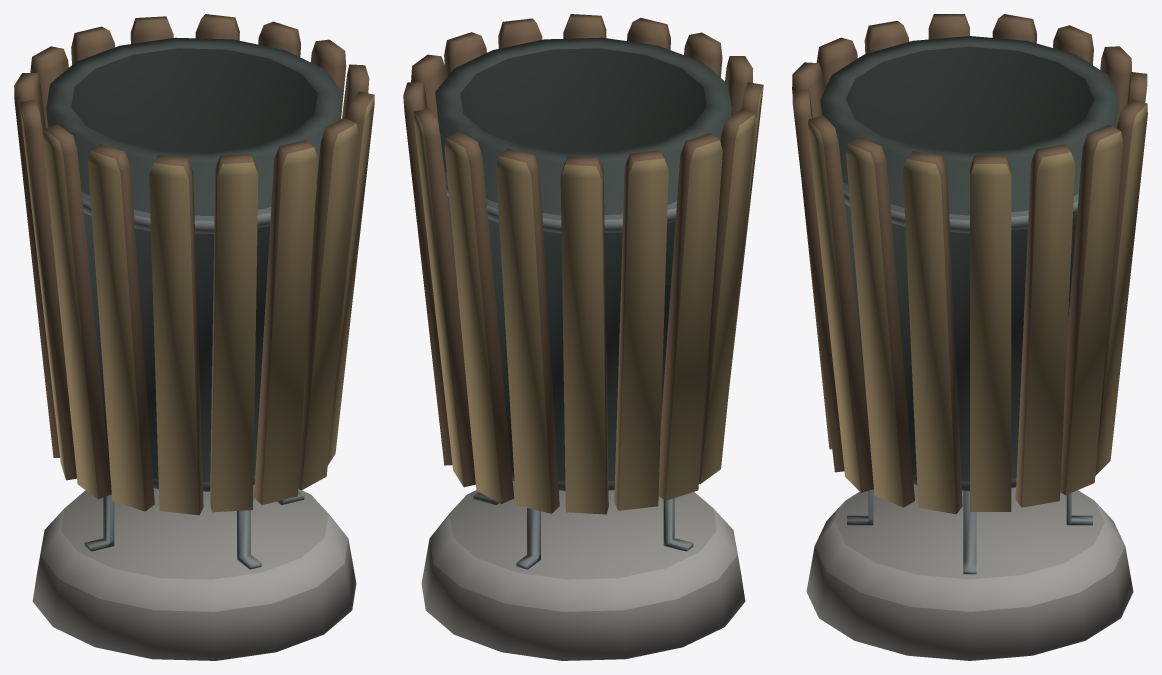
Rendered from furnishings-outdoor-parktrashcan_v1.glb.
3 views of the same model, side by side, from view 1: azimuth 30°, elevation 25°; view 2: azimuth 150°, elevation 25°; view 3: azimuth 270°, elevation 25° (orthographic).
Visible parts, largest first — view 1: ParkTrashcan.001; view 2: ParkTrashcan.001; view 3: ParkTrashcan.001.
Part boxes in pixels (left/top/right/bottom): ParkTrashcan.001: left=14, top=14, right=374, bottom=660; ParkTrashcan.001: left=403, top=14, right=763, bottom=660; ParkTrashcan.001: left=792, top=14, right=1147, bottom=660.
Size of the model in its own units: 0.59 by 0.9234 by 0.59.
